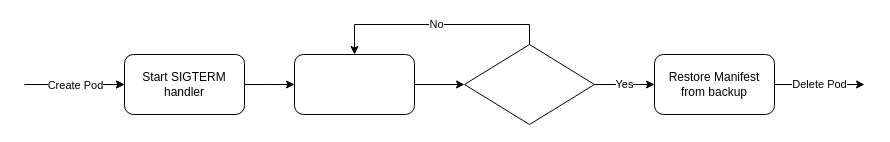
Image size: 890x142. Some labels were removed from this diagram. The shapes that lost their labels are listed below. From the top down, each one's centre as x and y in pixels, then its label:
the point at 354,84: Wait
the point at 529,84: Is SIGTERM?
